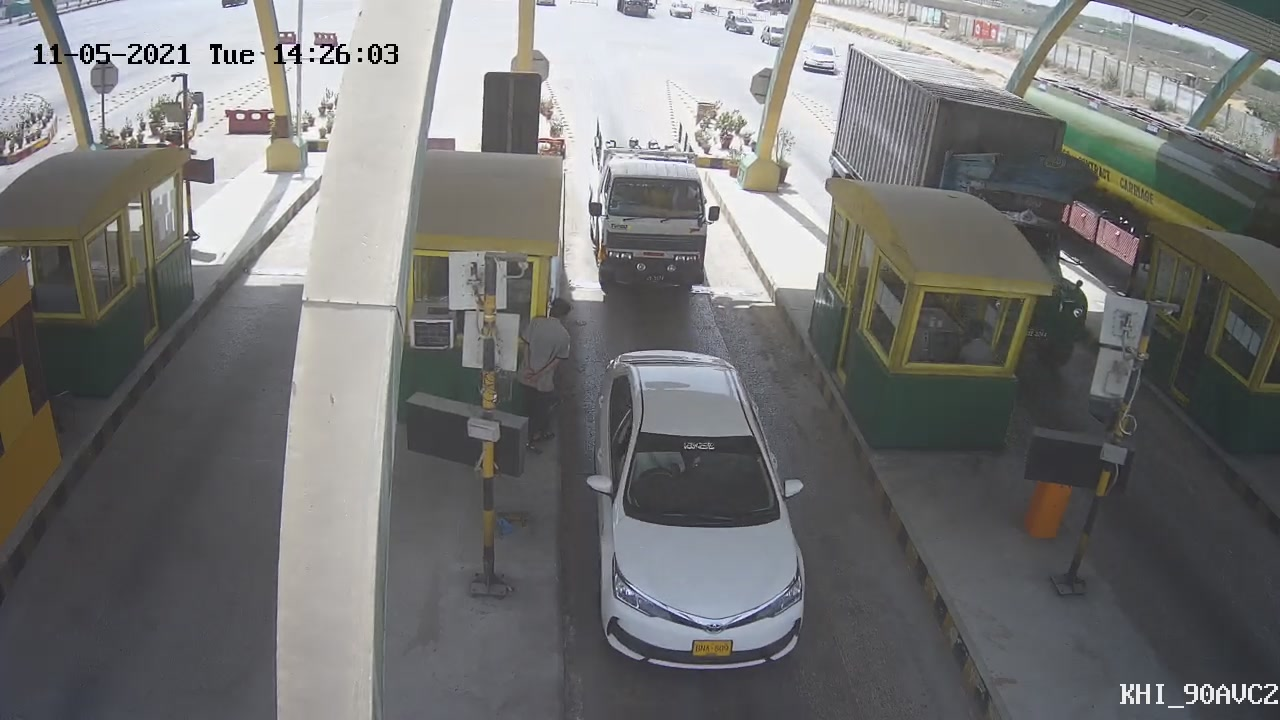F1: (582, 337, 815, 677)
F5: (587, 117, 716, 301)
